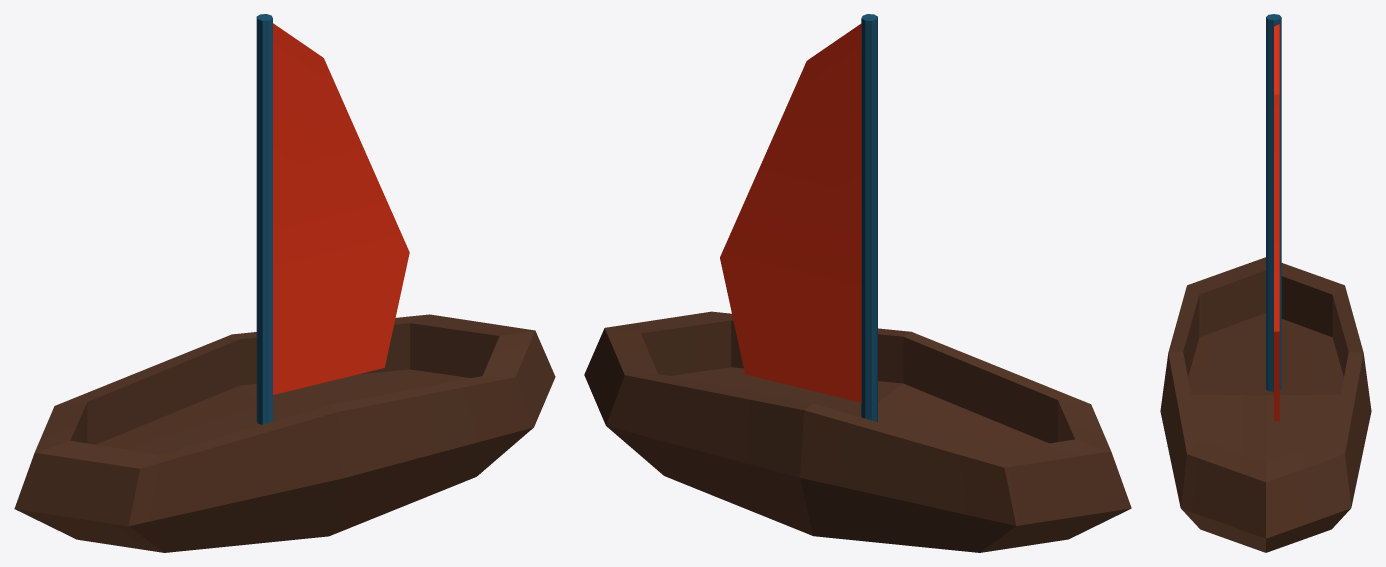
File: boat 5.fbx
3 renders of one model, left to right at view 1: azimuth 30°, elevation 25°; view 2: azimuth 150°, elevation 25°; view 3: azimuth 270°, elevation 25°, orthographic. The views are drawn at different scales.
Parts seen in each view (by area): view 1: Plane.008; view 2: Plane.008; view 3: Plane.008.
Part boxes in pixels (left/top/right/bottom): Plane.008: left=14, top=14, right=555, bottom=552; Plane.008: left=584, top=14, right=1131, bottom=552; Plane.008: left=1160, top=14, right=1371, bottom=552.
Bounding box in the file's own units: 15.6 × 13.42 × 5.72.
1 material, 1 textured.
